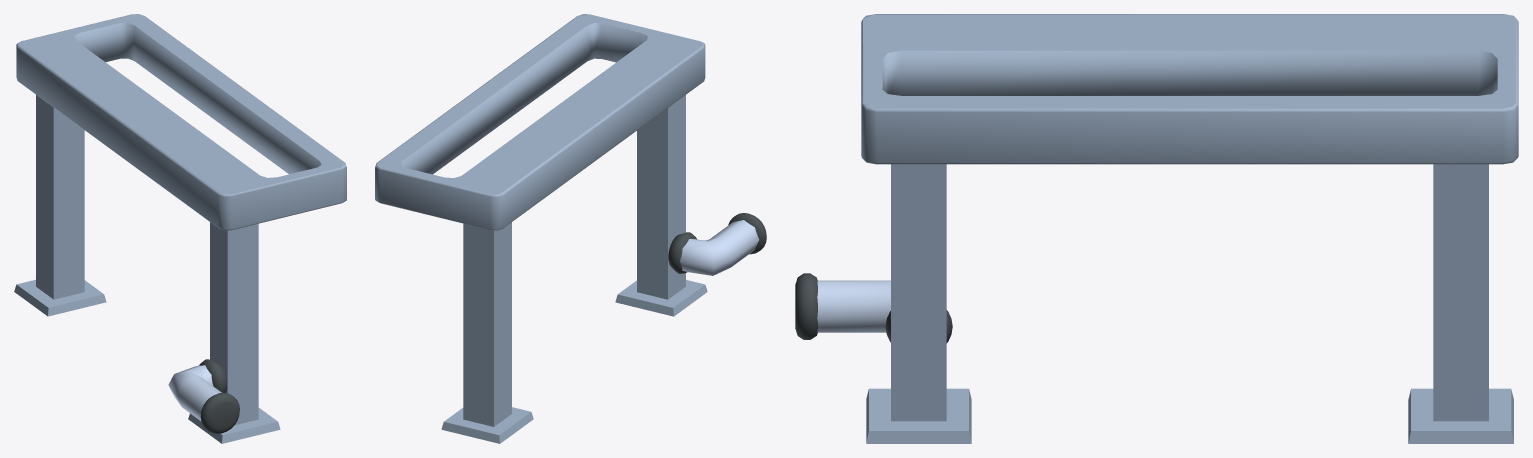
File: Station.fbx
3 renders of one model, left to right at view 1: azimuth 30°, elevation 25°; view 2: azimuth 150°, elevation 25°; view 3: azimuth 270°, elevation 25°, orthographic. The views are drawn at different scales.
Visible parts, largest first — view 1: Station; view 2: Station; view 3: Station.
Part boxes in pixels (x1=…): Station: x1=14, y1=14, x2=346, y2=443; Station: x1=375, y1=14, x2=766, y2=443; Station: x1=795, y1=14, x2=1518, y2=443.
Size of the model in its own units: 2.17 by 3.09 by 5.24.
